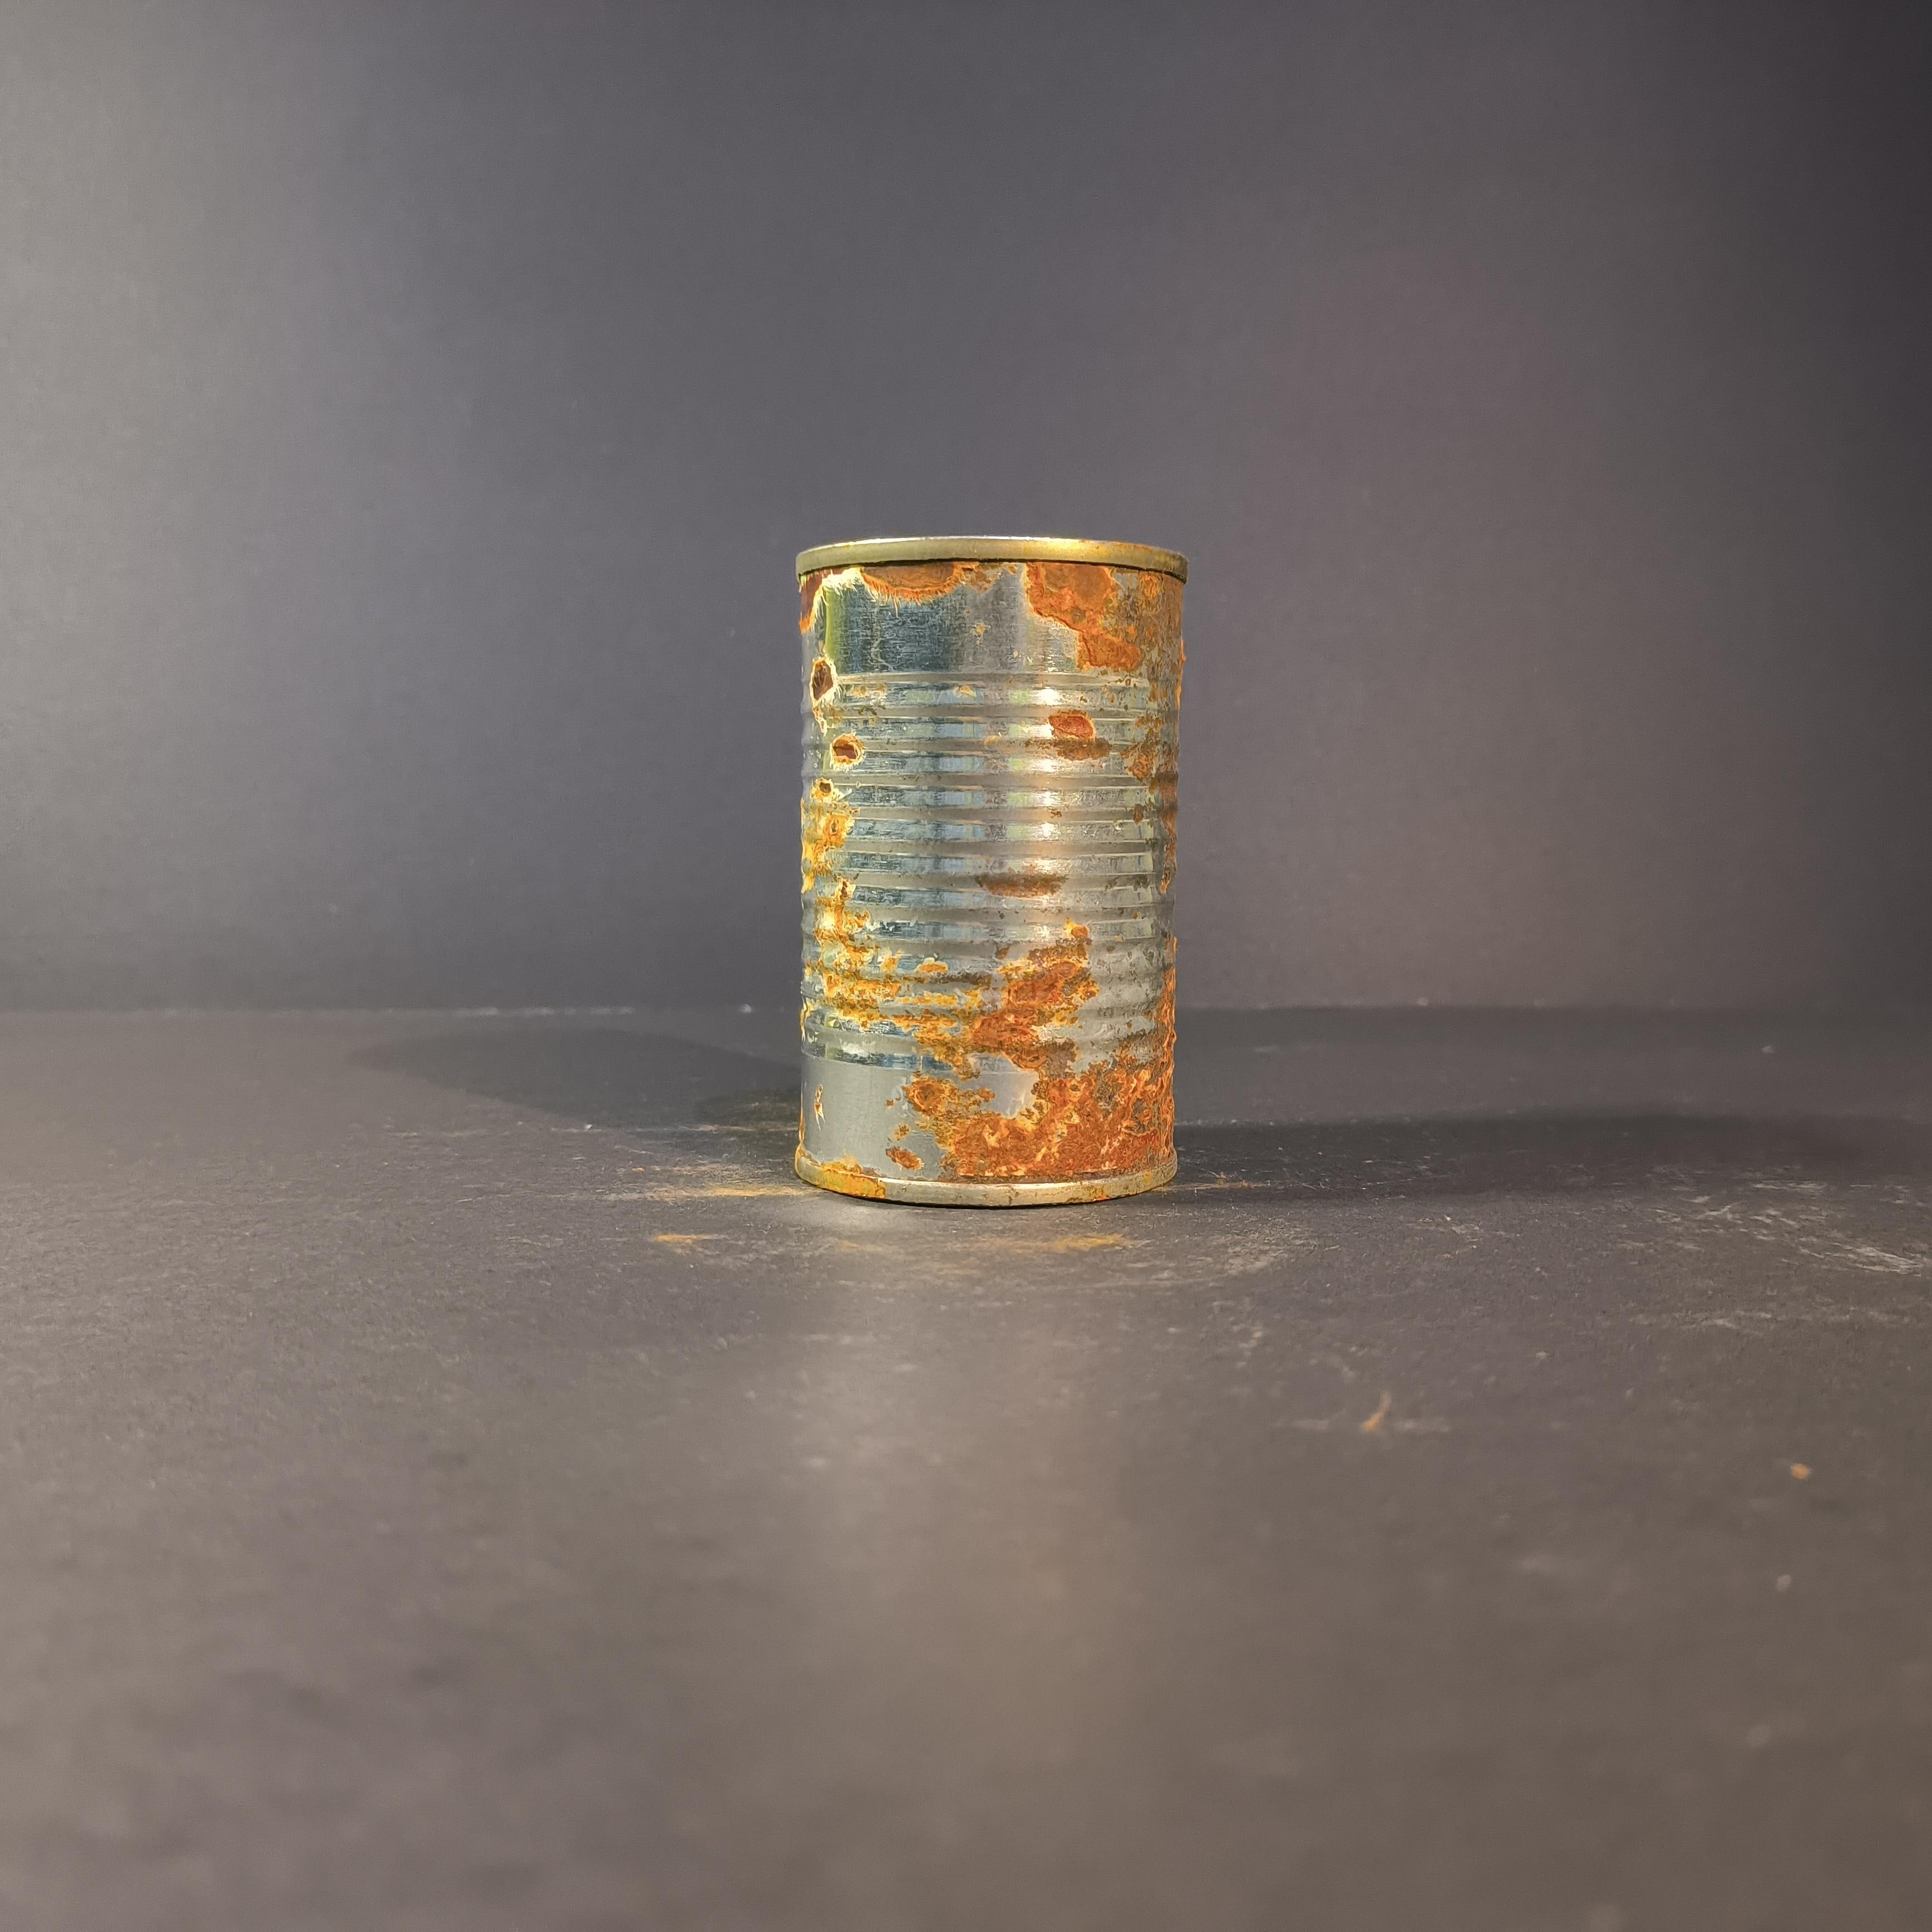Rusted: (771, 511, 1201, 1230)
